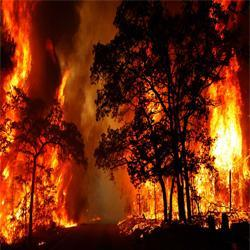fire: (213, 108, 243, 170), (12, 37, 29, 77)
